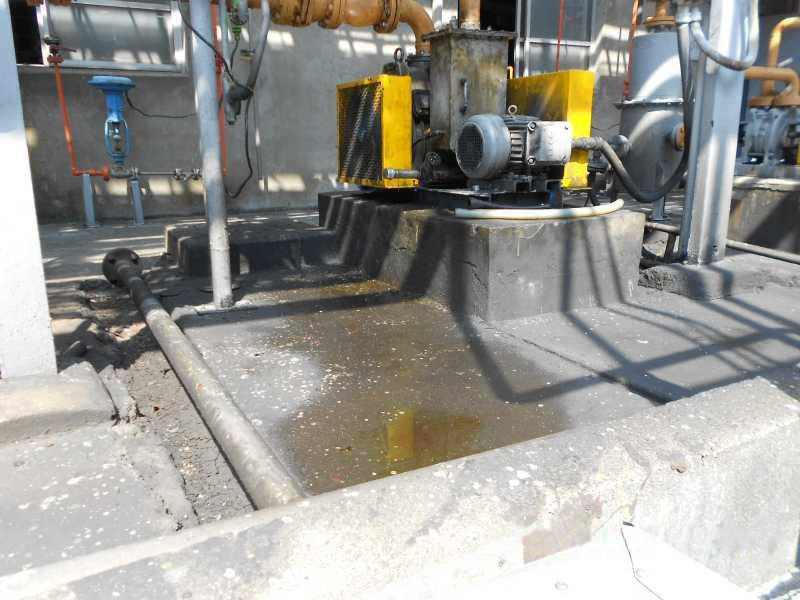water accumulation: (250, 251, 580, 496)
